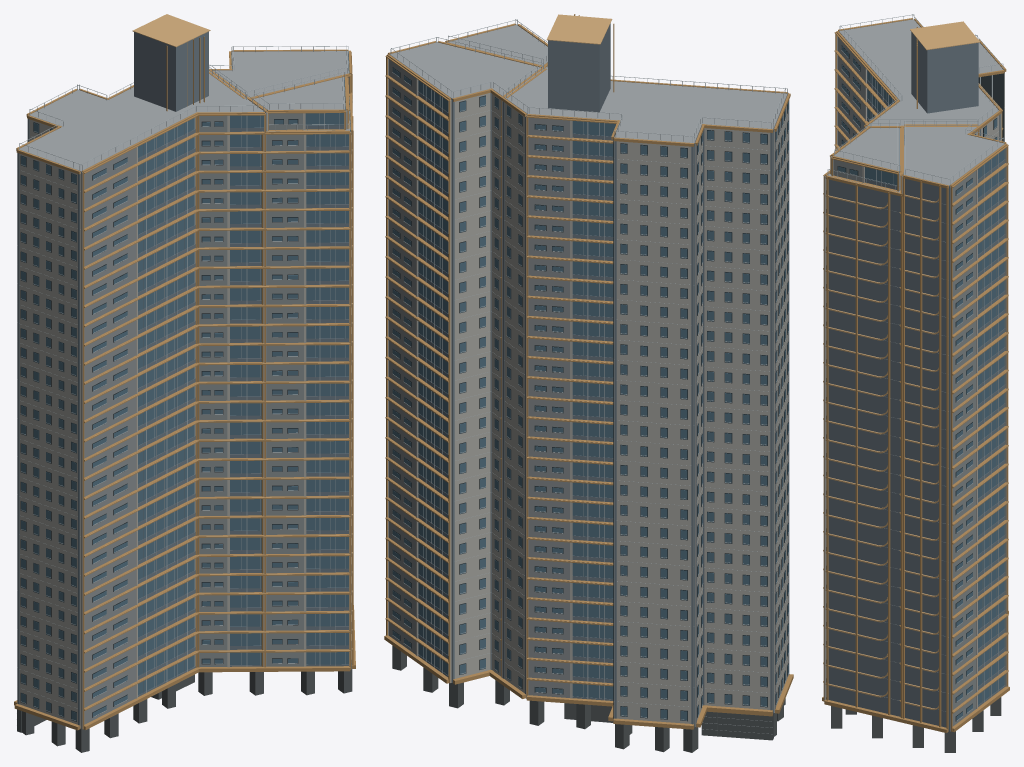
The model's file is bespoke-raemian-onepentas-102.glb.
The picture shows the model from 3 angles, left to right: view 1: azimuth 30°, elevation 25°; view 2: azimuth 150°, elevation 25°; view 3: azimuth 270°, elevation 25°; orthographic projection. The views are drawn at different scales.
Parts seen in each view (by area): view 1: bespoke-raemian-onepentas-102_export_batch_6, bespoke-raemian-onepentas-102_export_batch_10, bespoke-raemian-onepentas-102_export_batch_2, bespoke-raemian-onepentas-102_export_batch_8, bespoke-raemian-onepentas-102_export_batch_4, bespoke-raemian-onepentas-102_export_batch_3, bespoke-raemian-onepentas-102_export_batch_5, bespoke-raemian-onepentas-102_export_batch_7, bespoke-raemian-onepentas-102_export_batch_9, bespoke-raemian-onepentas-102_export_batch_1; view 2: bespoke-raemian-onepentas-102_export_batch_8, bespoke-raemian-onepentas-102_export_batch_6, bespoke-raemian-onepentas-102_export_batch_4, bespoke-raemian-onepentas-102_export_batch_10, bespoke-raemian-onepentas-102_export_batch_2, bespoke-raemian-onepentas-102_export_batch_9, bespoke-raemian-onepentas-102_export_batch_3, bespoke-raemian-onepentas-102_export_batch_5, bespoke-raemian-onepentas-102_export_batch_7, bespoke-raemian-onepentas-102_export_batch_1; view 3: bespoke-raemian-onepentas-102_export_batch_4, bespoke-raemian-onepentas-102_export_batch_2, bespoke-raemian-onepentas-102_export_batch_6, bespoke-raemian-onepentas-102_export_batch_5, bespoke-raemian-onepentas-102_export_batch_10, bespoke-raemian-onepentas-102_export_batch_7, bespoke-raemian-onepentas-102_export_batch_3, bespoke-raemian-onepentas-102_export_batch_8, bespoke-raemian-onepentas-102_export_batch_9, bespoke-raemian-onepentas-102_export_batch_1.
Boxes of the visible parts, box(x1,y1,x2,y2) form: bespoke-raemian-onepentas-102_export_batch_6: box(21, 52, 350, 721); bespoke-raemian-onepentas-102_export_batch_10: box(84, 113, 303, 724); bespoke-raemian-onepentas-102_export_batch_2: box(14, 36, 355, 730); bespoke-raemian-onepentas-102_export_batch_8: box(19, 51, 351, 729); bespoke-raemian-onepentas-102_export_batch_4: box(17, 31, 350, 727); bespoke-raemian-onepentas-102_export_batch_3: box(19, 45, 350, 720); bespoke-raemian-onepentas-102_export_batch_5: box(18, 51, 349, 171); bespoke-raemian-onepentas-102_export_batch_7: box(84, 14, 352, 709); bespoke-raemian-onepentas-102_export_batch_9: box(20, 119, 298, 721); bespoke-raemian-onepentas-102_export_batch_1: box(17, 663, 352, 752); bespoke-raemian-onepentas-102_export_batch_8: box(388, 24, 788, 726); bespoke-raemian-onepentas-102_export_batch_6: box(392, 68, 788, 726); bespoke-raemian-onepentas-102_export_batch_4: box(418, 23, 789, 726); bespoke-raemian-onepentas-102_export_batch_10: box(388, 59, 569, 697); bespoke-raemian-onepentas-102_export_batch_2: box(384, 14, 793, 729); bespoke-raemian-onepentas-102_export_batch_9: box(392, 67, 788, 721); bespoke-raemian-onepentas-102_export_batch_3: box(390, 19, 788, 734); bespoke-raemian-onepentas-102_export_batch_5: box(390, 25, 787, 143); bespoke-raemian-onepentas-102_export_batch_7: box(385, 14, 613, 685); bespoke-raemian-onepentas-102_export_batch_1: box(392, 645, 785, 752); bespoke-raemian-onepentas-102_export_batch_4: box(826, 32, 1005, 730); bespoke-raemian-onepentas-102_export_batch_2: box(822, 18, 1009, 732); bespoke-raemian-onepentas-102_export_batch_6: box(838, 46, 1005, 730); bespoke-raemian-onepentas-102_export_batch_5: box(827, 19, 1004, 192); bespoke-raemian-onepentas-102_export_batch_10: box(833, 37, 976, 726); bespoke-raemian-onepentas-102_export_batch_7: box(823, 21, 1008, 731); bespoke-raemian-onepentas-102_export_batch_3: box(826, 14, 1004, 720); bespoke-raemian-onepentas-102_export_batch_8: box(824, 36, 1006, 731); bespoke-raemian-onepentas-102_export_batch_9: box(837, 45, 1003, 721); bespoke-raemian-onepentas-102_export_batch_1: box(831, 697, 1001, 752).
Bounding box in the file's own units: 59.41 × 103 × 27.65.
